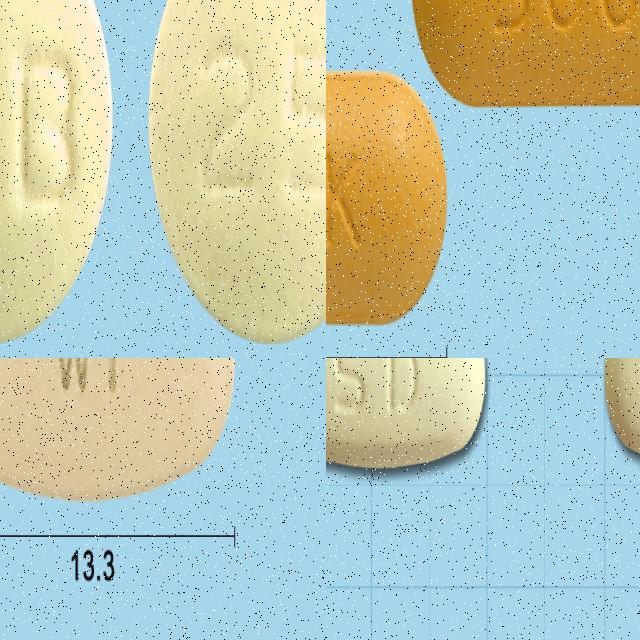Azabio - 50mg: (145, 0, 326, 348), (0, 0, 116, 347)
Clabio: (326, 358, 490, 481)
Clathron - 500mg: (0, 358, 237, 508)
Craycin: (326, 68, 448, 323), (412, 0, 640, 104)
